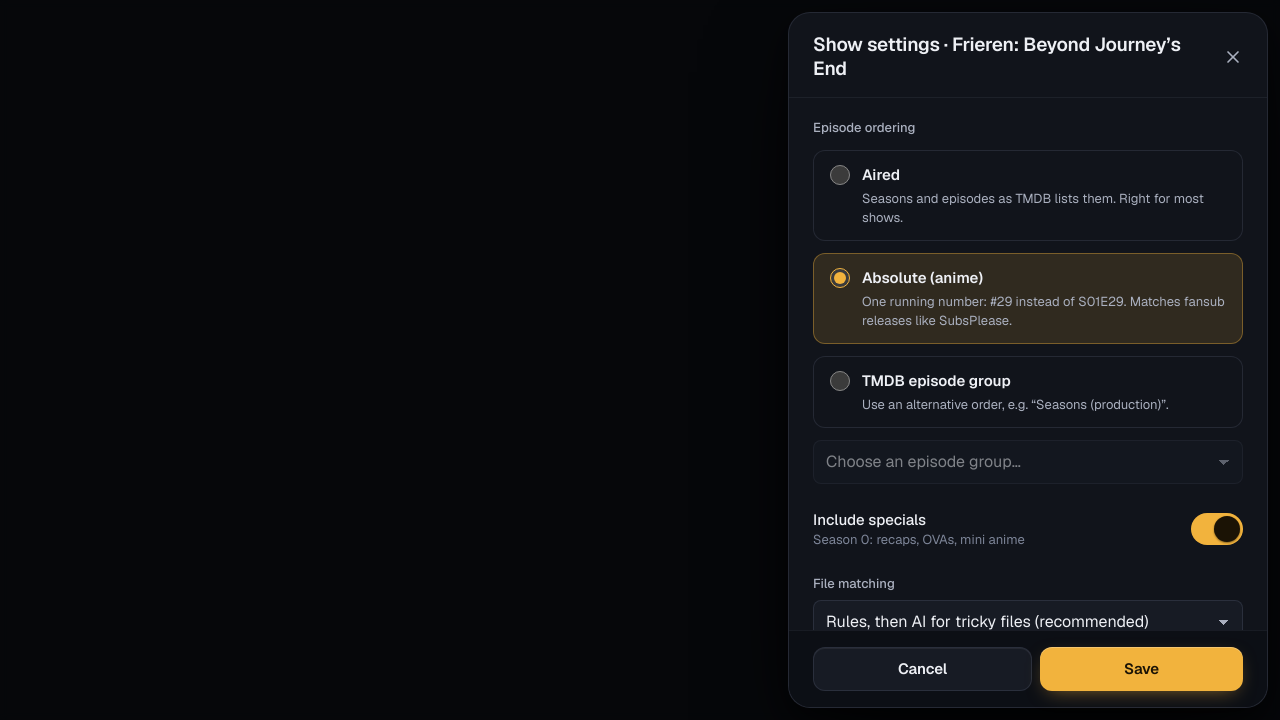
Test: ShowSettingsSheet › shows a 422 at the group picker and stays open, until another ordering is picked
This screenshot has width=1280, height=720.
Expected: the dialog is shown, [788, 12, 1268, 708]
Step 1. Click the radio button labelled "TMDB episode group" → (840, 381), box [830, 371, 850, 391]
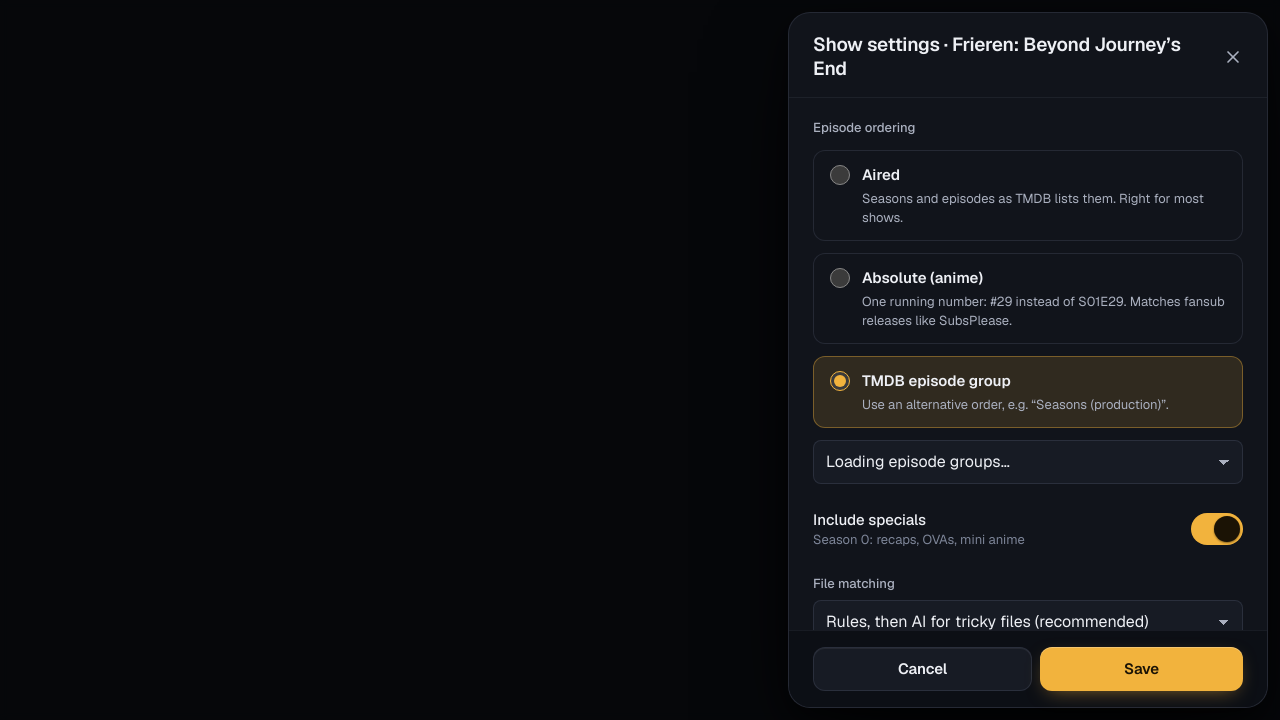
Step 2. Click the button "Save" → (1142, 669), box [1040, 647, 1243, 691]
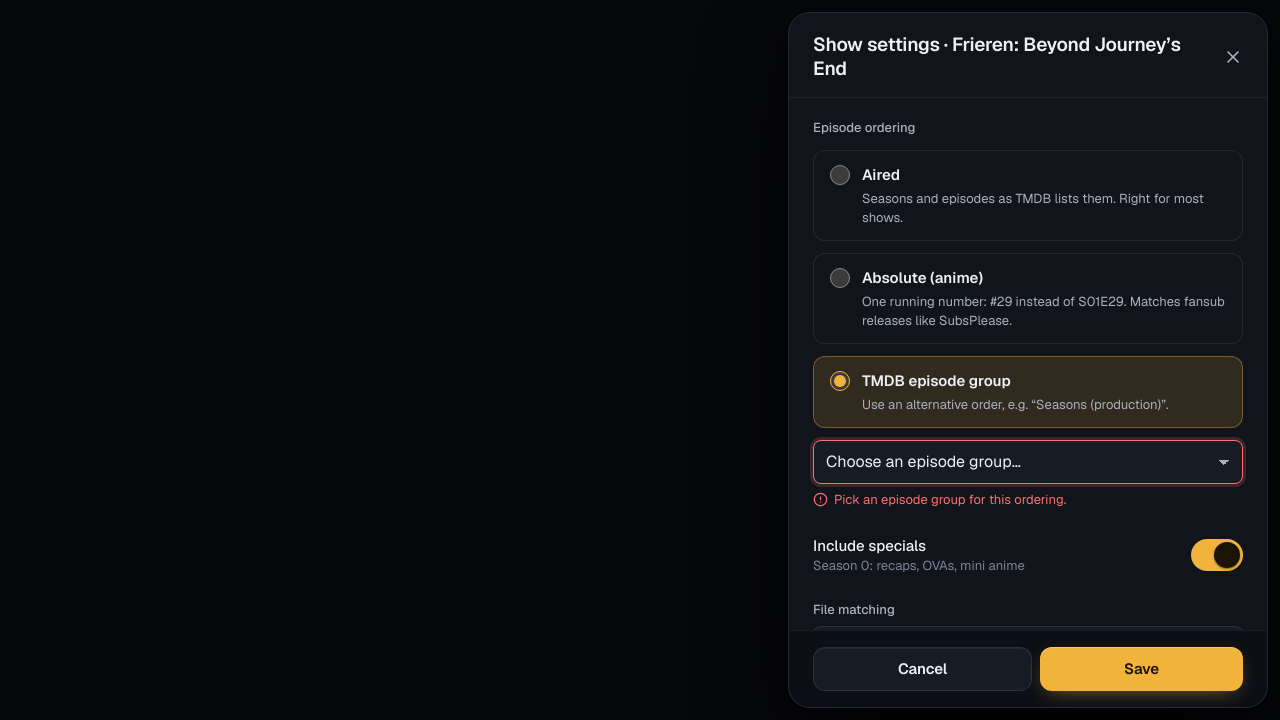
Now the text "Pick an episode group for this ordering." is shown, box [834, 490, 1066, 510]
Step 3. Click the radio button labelled "Aired" → (840, 175), box [830, 165, 850, 185]
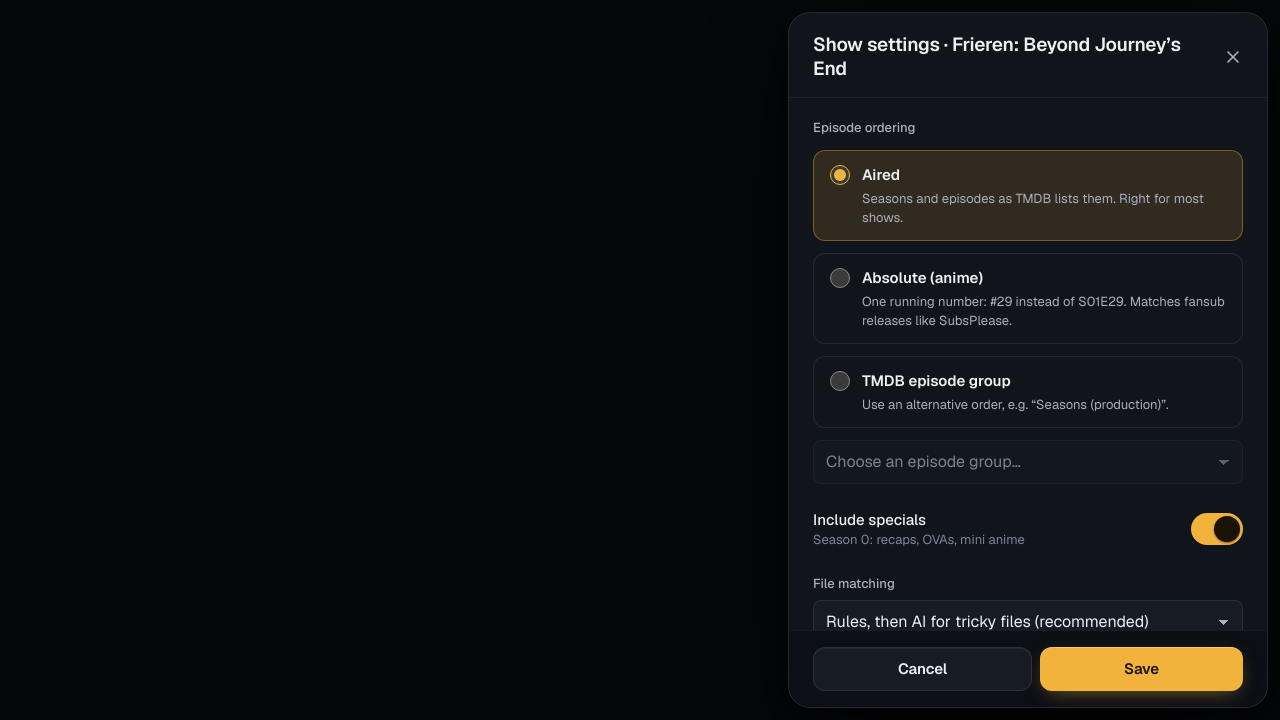
Now the text "Pick an episode group for this ordering." is gone
